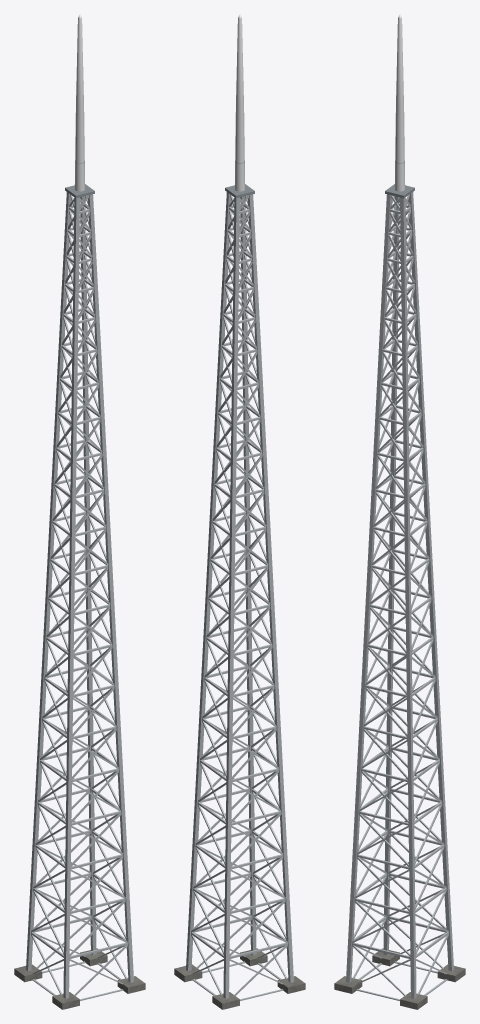
Rendered from lightning_tower.glb.
3 renders of one model, left to right at view 1: azimuth 30°, elevation 25°; view 2: azimuth 210°, elevation 25°; view 3: azimuth 330°, elevation 25°, orthographic.
Visible parts, largest first — view 1: lightning_tower; view 2: lightning_tower; view 3: lightning_tower.
Boxes of the visible parts, x1=… form: lightning_tower: x1=14, y1=14, x2=145, y2=1009; lightning_tower: x1=174, y1=14, x2=305, y2=1009; lightning_tower: x1=334, y1=14, x2=465, y2=1009.
Bounding box in the file's own units: 16.5 × 184 × 16.5.
Materials: 4 (1 with a texture image).
